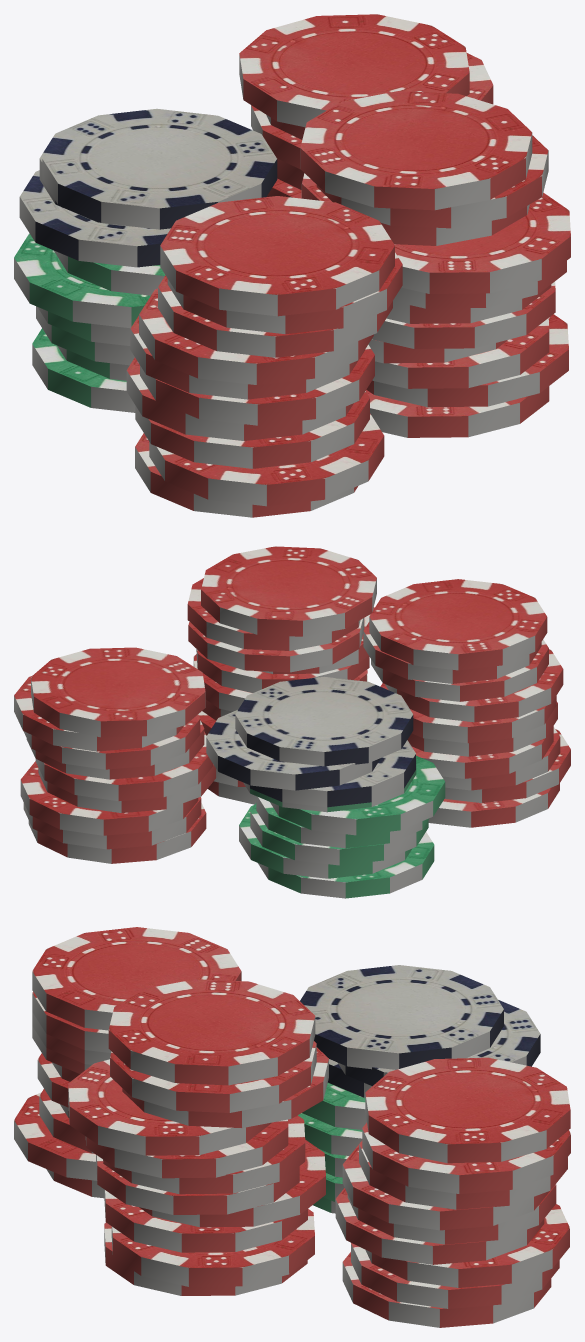
Rendered from pokerchips2.glb.
3 views of the same model, one above another, from view 1: azimuth 30°, elevation 25°; view 2: azimuth 150°, elevation 25°; view 3: azimuth 270°, elevation 25° (orthographic). The views are drawn at different scales.
Visible parts, largest first — view 1: Red_Chip_4.004, Red_Chip_4.005, White_Chip.002, Red_Chip_6.004, Red_Chip_4.002, Red_Chip_10.001, Red_Chip_5.001, Red_Chip_8.001, White_Chip.001, Red_Chip_7.001, Green_Chip.005, Red_Chip_4.001 (+20 smaller); view 2: Red_Chip_4.004, Red_Chip_4.005, Red_Chip_6.004, White_Chip.002, White_Chip.003, Green_Chip.005, Red_Chip_8.003, Red_Chip_7.003, Green_Chip.001, Red_Chip_5.001, Red_Chip_6.003, White_Chip.001 (+23 smaller); view 3: Red_Chip_4.005, Red_Chip_6.004, White_Chip.002, Red_Chip_4.004, Red_Chip_4.002, Red_Chip_10.002, Red_Chip_4.007, Red_Chip_5.003, Red_Chip_8.003, Red_Chip_8.002, Red_Chip_6.005, Red_Chip_5.002 (+21 smaller).
Part boxes in pixels (<box>): Red_Chip_4.004: <box>160,196,394,316</box>; Red_Chip_4.005: <box>300,91,532,210</box>; White_Chip.002: <box>42,109,277,229</box>; Red_Chip_6.004: <box>239,14,469,127</box>; Red_Chip_4.002: <box>394,192,570,293</box>; Red_Chip_10.001: <box>149,413,384,506</box>; Red_Chip_5.001: <box>139,288,373,384</box>; Red_Chip_8.001: <box>135,391,369,468</box>; White_Chip.001: <box>19,170,170,267</box>; Red_Chip_7.001: <box>140,344,374,425</box>; Green_Chip.005: <box>14,233,150,328</box>; Red_Chip_4.001: <box>158,275,392,357</box>; Red_Chip_4.004: <box>369,579,547,670</box>; Red_Chip_4.005: <box>201,546,376,636</box>; Red_Chip_6.004: <box>31,647,205,737</box>; White_Chip.002: <box>235,676,413,766</box>; White_Chip.003: <box>206,710,380,790</box>; Green_Chip.005: <box>270,755,445,835</box>; Red_Chip_8.003: <box>20,761,198,835</box>; Red_Chip_7.003: <box>35,731,213,801</box>; Green_Chip.001: <box>258,832,434,898</box>; Red_Chip_5.001: <box>385,649,563,722</box>; Red_Chip_6.003: <box>188,618,364,672</box>; White_Chip.001: <box>247,740,415,807</box>; Red_Chip_4.005: <box>108,979,315,1085</box>; Red_Chip_6.004: <box>365,1057,570,1163</box>; White_Chip.002: <box>300,965,503,1069</box>; Red_Chip_4.004: <box>32,927,241,1030</box>; Red_Chip_4.002: <box>68,1059,271,1155</box>; Red_Chip_10.002: <box>111,1209,314,1286</box>; Red_Chip_4.007: <box>362,1122,570,1193</box>; Red_Chip_5.003: <box>110,1041,316,1112</box>; Red_Chip_8.003: <box>365,1204,569,1287</box>; Red_Chip_8.002: <box>104,1189,307,1252</box>; Red_Chip_6.005: <box>342,1144,549,1230</box>; Red_Chip_5.002: <box>85,1119,288,1178</box>.
Size of the model in its own units: 5.33 by 2.54 by 5.68.
16 materials, 16 textured.
